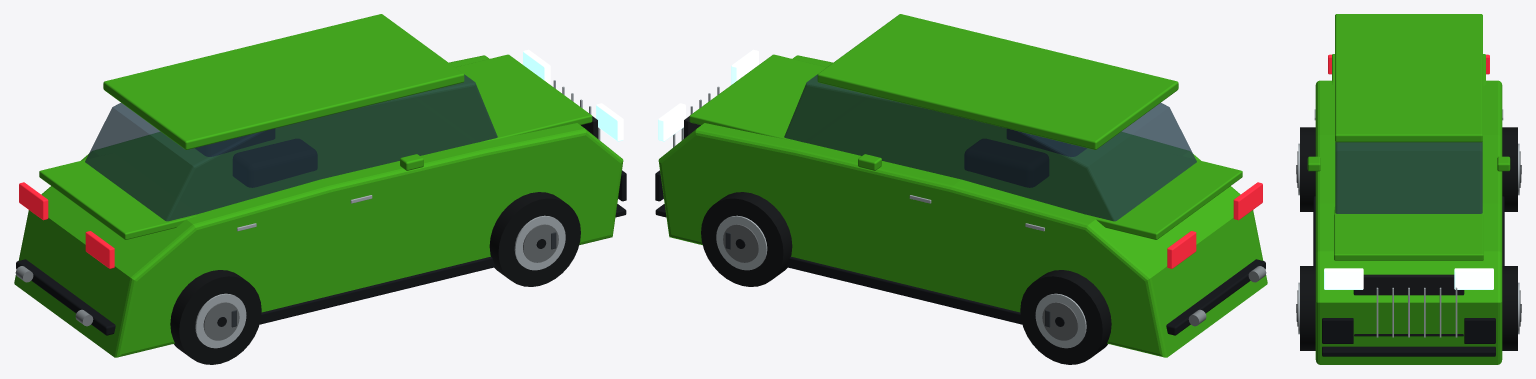
The model's file is chevy_city_express.glb.
3 views of the same model, side by side, from view 1: azimuth 30°, elevation 25°; view 2: azimuth 150°, elevation 25°; view 3: azimuth 270°, elevation 25° (orthographic). The views are drawn at different scales.
Visible parts, largest first — view 1: sculpted_body, glasshouse, roof, hood_center, rear_deck, rear_right_wheel_tire, front_right_wheel_tire, side_skirt_1, seat_1, rear_diffuser, rear_right_wheel_rim, front_right_wheel_rim (+7 smaller); view 2: sculpted_body, glasshouse, roof, hood_center, rear_deck, rear_left_wheel_tire, front_left_wheel_tire, side_skirt_-1, seat_-1, rear_diffuser, rear_left_wheel_rim, front_left_wheel_rim (+7 smaller); view 3: sculpted_body, roof, glasshouse, hood_center, front_grille, front_splitter, front_left_wheel_tire, front_right_wheel_tire, rear_left_wheel_tire, rear_right_wheel_tire, headlight_right, headlight_left (+7 smaller).
Part boxes in pixels (bbox=[...]): sculpted_body: bbox=[14, 55, 623, 357]; glasshouse: bbox=[85, 74, 497, 221]; roof: bbox=[103, 14, 464, 149]; hood_center: bbox=[415, 54, 592, 142]; rear_deck: bbox=[39, 153, 198, 239]; rear_right_wheel_tire: bbox=[170, 270, 261, 364]; front_right_wheel_tire: bbox=[489, 192, 580, 286]; side_skirt_1: bbox=[259, 256, 495, 324]; seat_1: bbox=[233, 139, 316, 187]; rear_diffuser: bbox=[16, 259, 115, 335]; rear_right_wheel_rim: bbox=[195, 293, 246, 348]; front_right_wheel_rim: bbox=[514, 215, 565, 270]; sculpted_body: bbox=[658, 55, 1267, 357]; glasshouse: bbox=[784, 74, 1196, 221]; roof: bbox=[817, 14, 1178, 149]; hood_center: bbox=[689, 54, 866, 142]; rear_deck: bbox=[1083, 153, 1242, 239]; rear_left_wheel_tire: bbox=[1020, 270, 1111, 364]; front_left_wheel_tire: bbox=[701, 192, 792, 286]; side_skirt_-1: bbox=[786, 256, 1022, 324]; seat_-1: bbox=[965, 139, 1048, 187]; rear_diffuser: bbox=[1166, 259, 1265, 335]; rear_left_wheel_rim: bbox=[1035, 293, 1086, 348]; front_left_wheel_rim: bbox=[716, 215, 767, 270]; sculpted_body: bbox=[1315, 80, 1502, 364]; roof: bbox=[1335, 14, 1482, 142]; glasshouse: bbox=[1335, 142, 1482, 213]; hood_center: bbox=[1334, 206, 1483, 260]; front_grille: bbox=[1353, 274, 1464, 336]; front_splitter: bbox=[1322, 346, 1495, 356]; front_left_wheel_tire: bbox=[1502, 266, 1517, 350]; front_right_wheel_tire: bbox=[1300, 266, 1315, 350]; rear_left_wheel_tire: bbox=[1502, 127, 1517, 211]; rear_right_wheel_tire: bbox=[1300, 127, 1315, 211]; headlight_right: bbox=[1324, 268, 1363, 289]; headlight_left: bbox=[1454, 268, 1493, 289].
Bounding box in the file's own units: 5.56 × 2.1 × 2.28.
